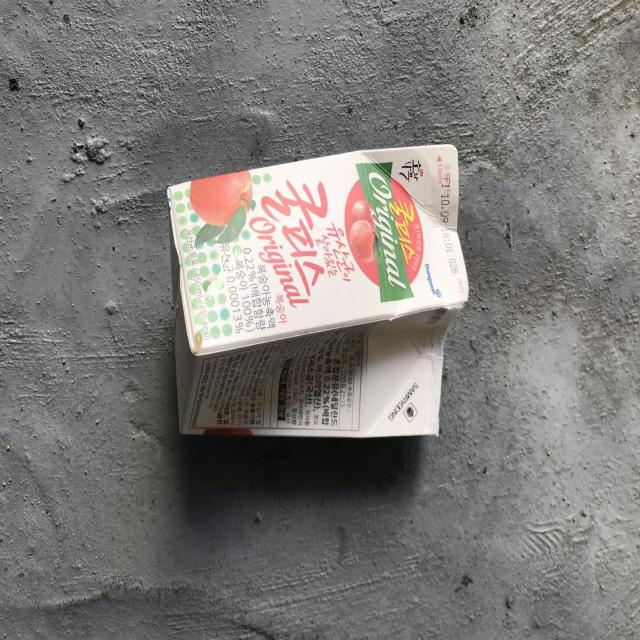paperpack: (167, 144, 469, 438)
